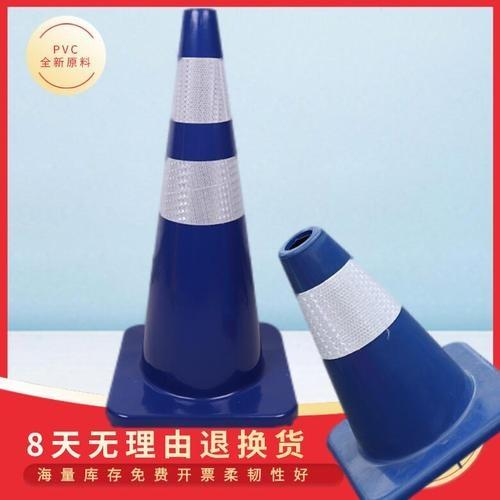cone_barrel: (127, 25, 273, 414), (279, 222, 472, 459)
